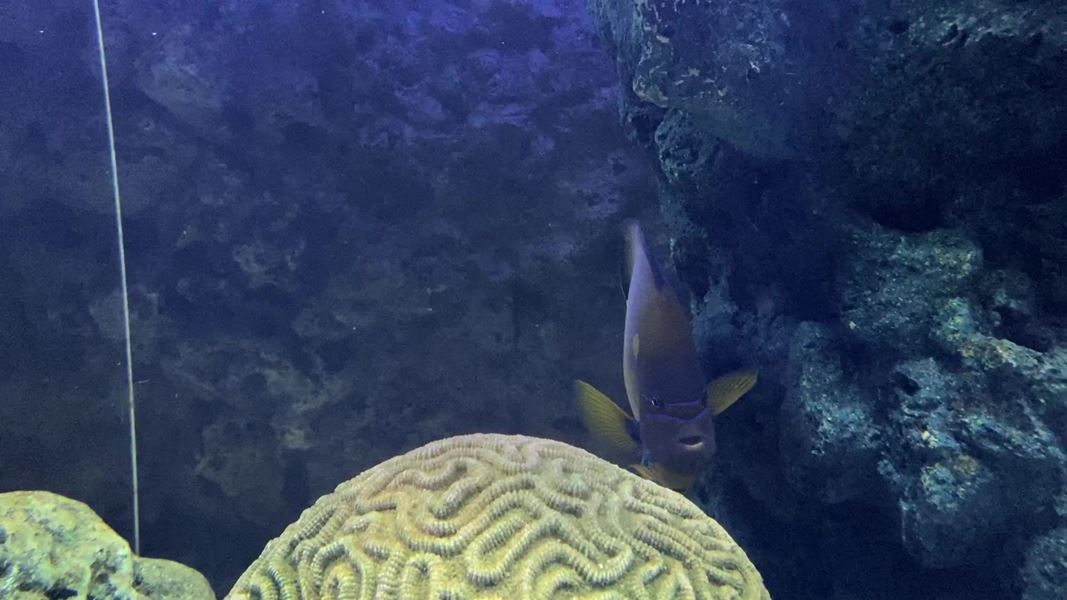Blue ring angelfish: (553, 187, 766, 509)
